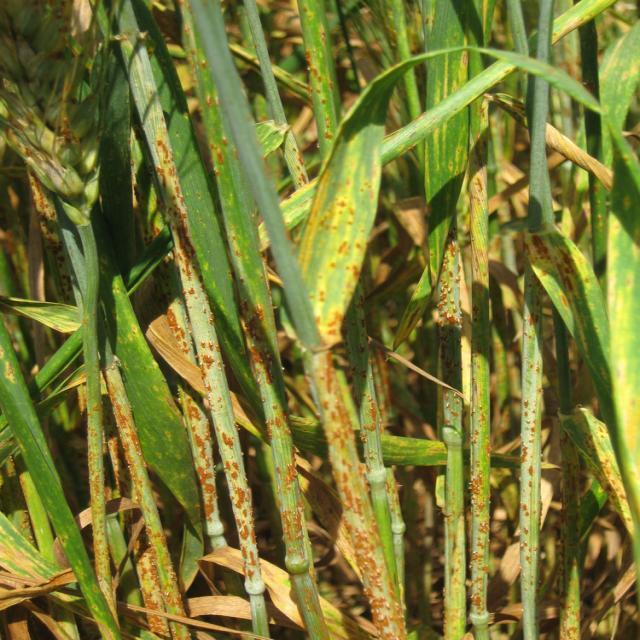wheat-stemrust: (342, 515, 407, 640), (154, 136, 200, 279), (265, 409, 307, 558), (220, 422, 257, 582), (182, 388, 217, 522), (238, 300, 277, 388), (109, 395, 144, 489), (470, 471, 489, 615), (436, 240, 463, 328), (134, 563, 164, 612), (165, 307, 191, 354), (134, 546, 161, 590), (197, 342, 224, 382), (148, 614, 169, 636)
